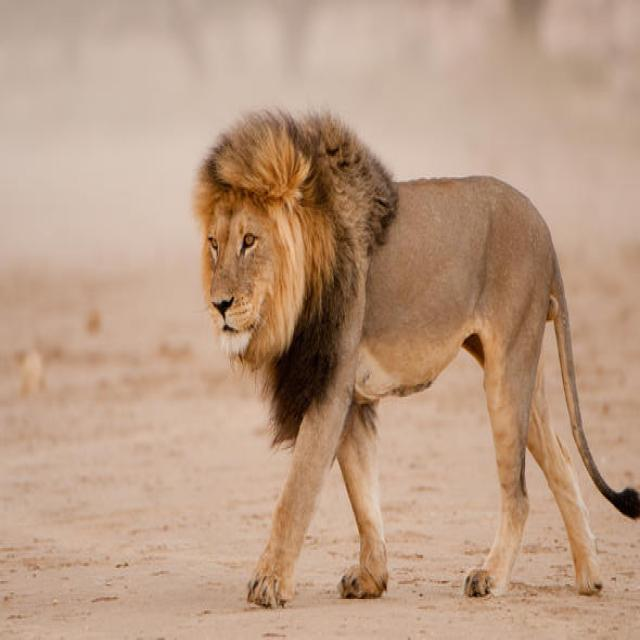Lion: (191, 109, 639, 606)
